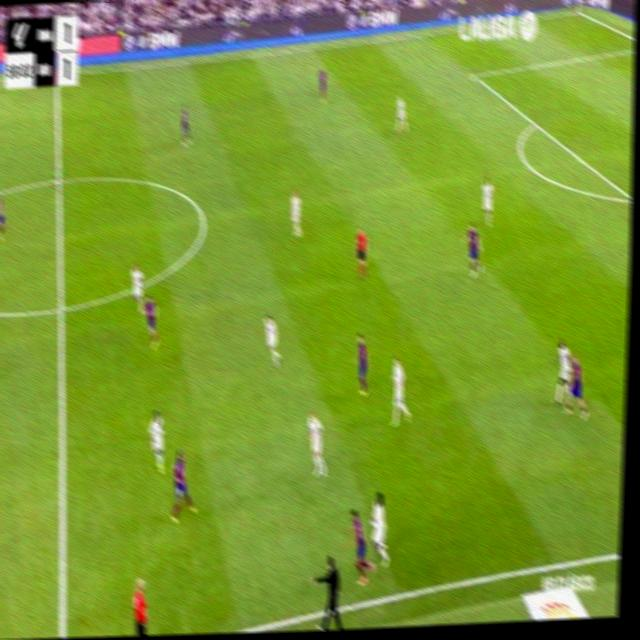bigarea_top_inner: (468, 66, 479, 82)
bottom_arc_area_intersection: (627, 187, 631, 209)
corner: (572, 5, 582, 16)
halfcircle_bottom: (51, 293, 69, 324)
halfcircle_top: (50, 165, 67, 194)
top_arc_area_intersection: (529, 114, 540, 130)
